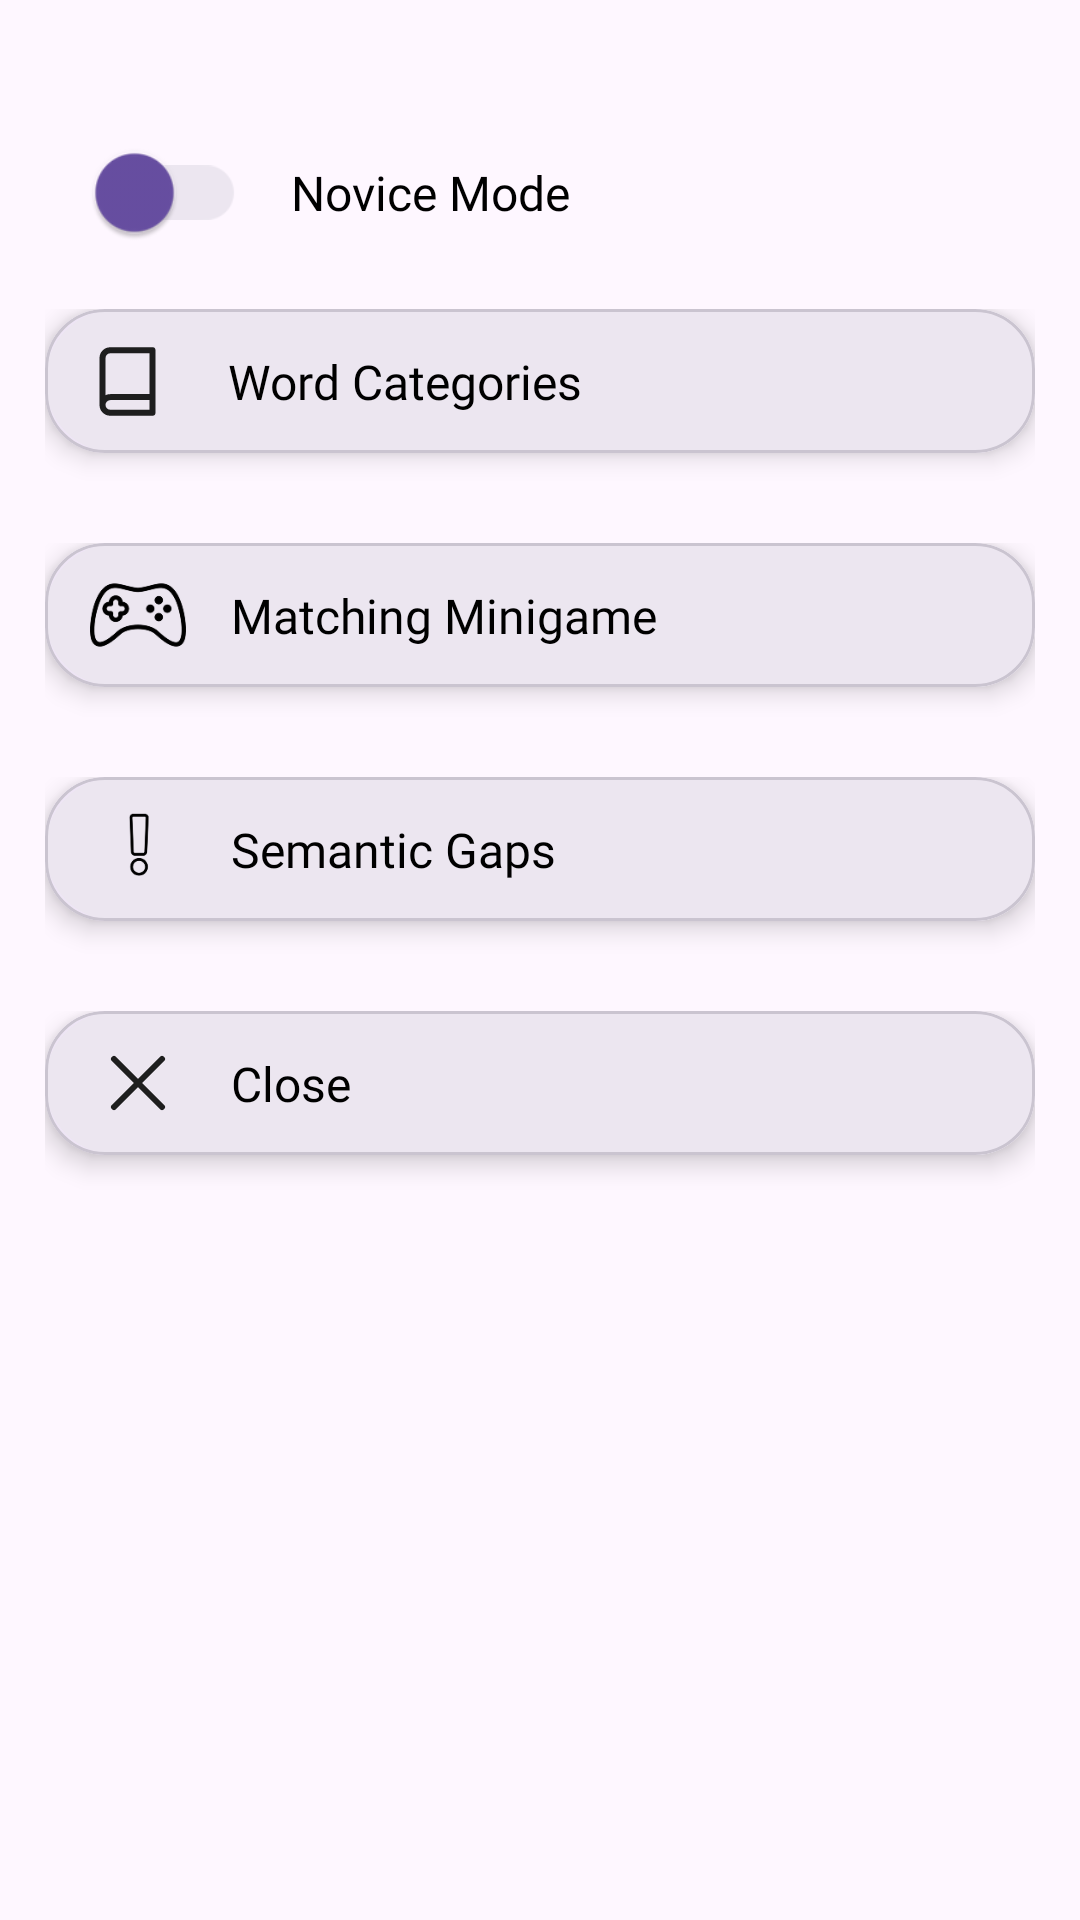

Named icons in this screenshot (1080px×1920px) and their centers, [x,y]:
book: [127,381]
